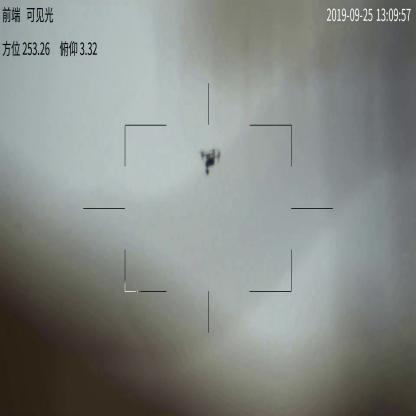uav: (200, 145, 224, 175)
